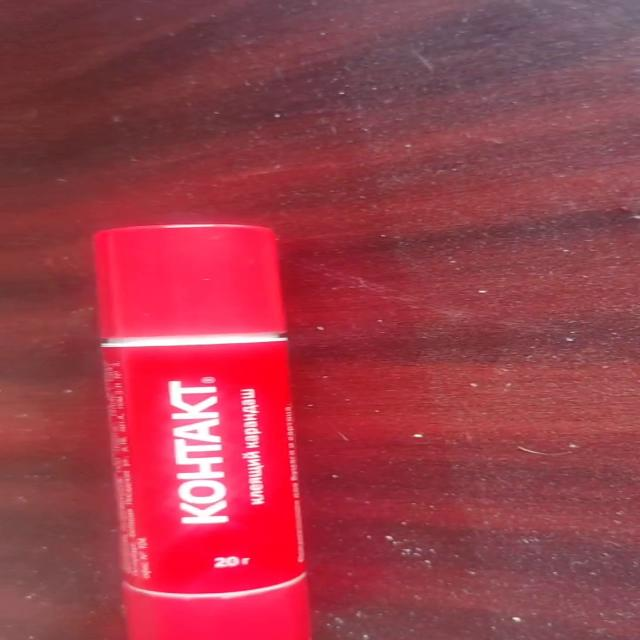glue: (91, 222, 313, 638)
